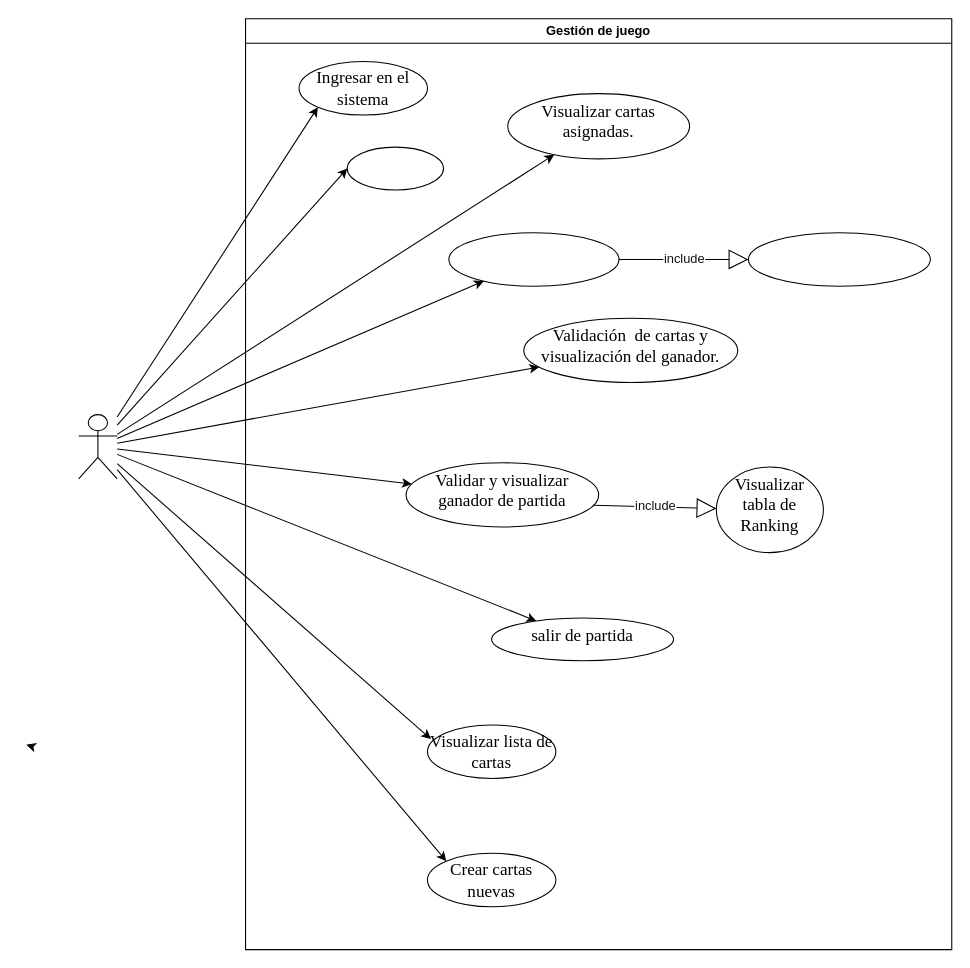
Image size: 970x968. Some labels were removed from this diagram. The shapes that lost their labels are listed below. From the top down, each one's box as (x1, y1, x2, y2) in pixels, then its label:
(346, 146, 444, 190): Crear una sala.
(448, 232, 619, 286): Escoger carta para ronda.
(747, 232, 930, 286): Escoger atributo para ronda.
(78, 414, 117, 479): Usuarios
